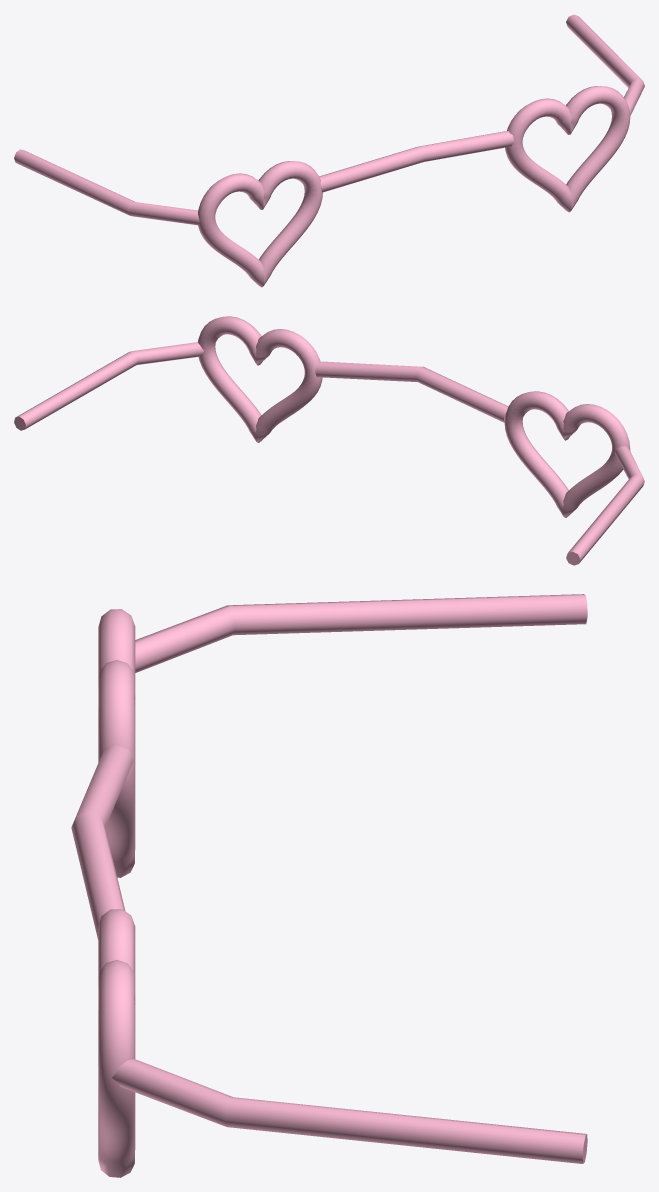
File: Acc_HeartGlasses.fbx
The picture shows the model from 3 angles, top to bottom: view 1: azimuth 30°, elevation 25°; view 2: azimuth 150°, elevation 25°; view 3: azimuth 270°, elevation 25°; orthographic projection. The views are drawn at different scales.
Visible parts, largest first — view 1: Acc_HeartGlasses; view 2: Acc_HeartGlasses; view 3: Acc_HeartGlasses.
Part boxes in pixels (x1,y1,x2,y2): Acc_HeartGlasses: [14, 14, 644, 287]; Acc_HeartGlasses: [14, 316, 644, 565]; Acc_HeartGlasses: [71, 594, 587, 1177].
Bounding box in the file's own units: 0.1843 × 0.0368 × 0.0728.
